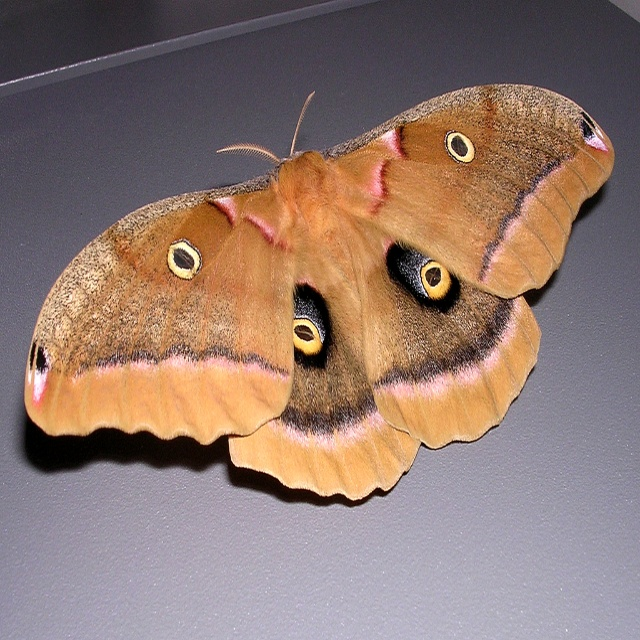Butterfly: (39, 117, 640, 548)
